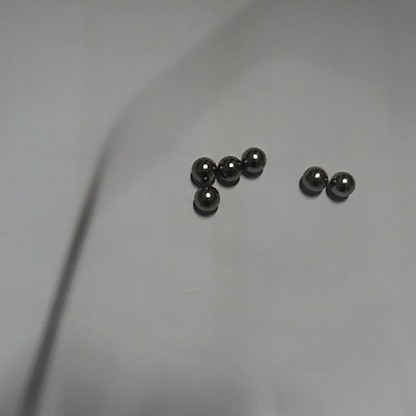ironball: (188, 154, 218, 182), (218, 153, 243, 183), (330, 171, 354, 198), (302, 165, 325, 193), (192, 186, 218, 210), (243, 145, 265, 173)
